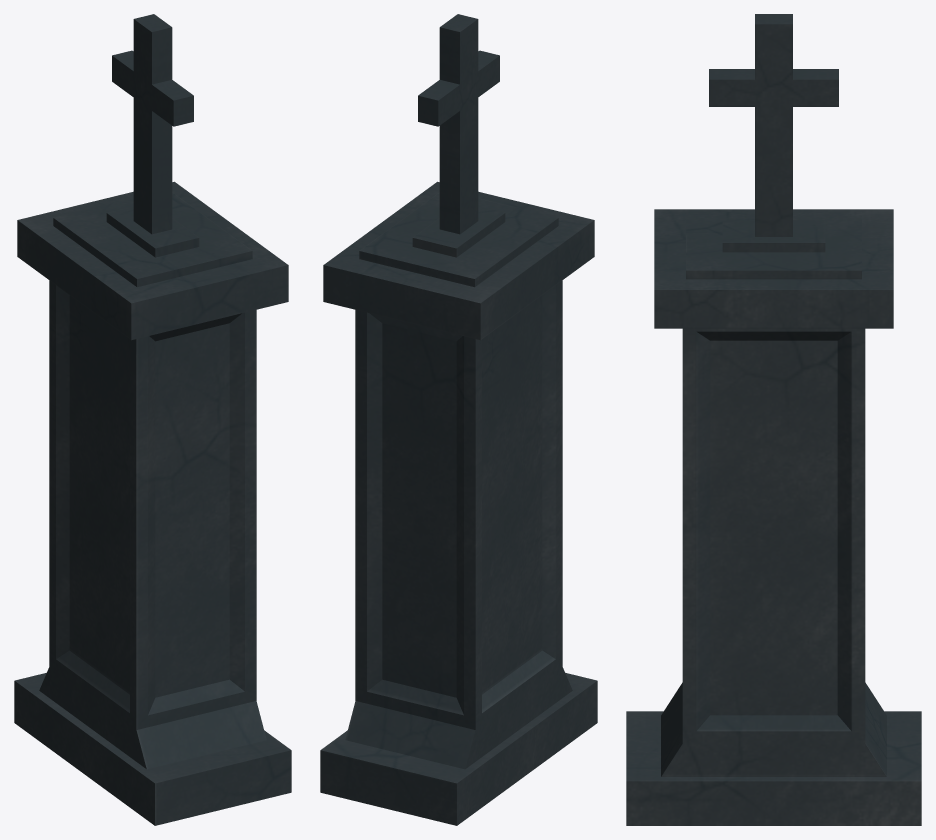
Rendered from Gravestone18_Model.fbx.
3 renders of one model, left to right at view 1: azimuth 30°, elevation 25°; view 2: azimuth 150°, elevation 25°; view 3: azimuth 270°, elevation 25°, orthographic. The views are drawn at different scales.
Parts seen in each view (by area): view 1: Gravestone18; view 2: Gravestone18; view 3: Gravestone18.
Boxes of the visible parts, x1,y1,x2,y2 form: Gravestone18: [14, 14, 291, 825]; Gravestone18: [320, 14, 597, 825]; Gravestone18: [626, 14, 921, 825].
Bounding box in the file's own units: 23.32 × 104 × 36.14.
